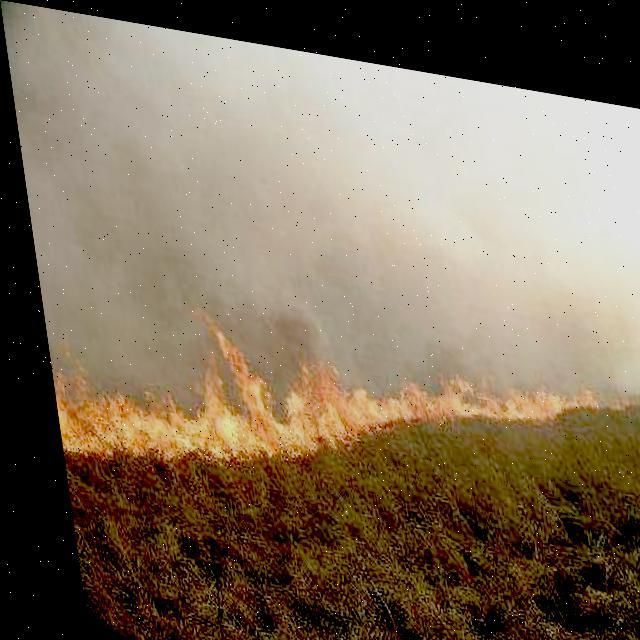Fire: (32, 275, 639, 533)
